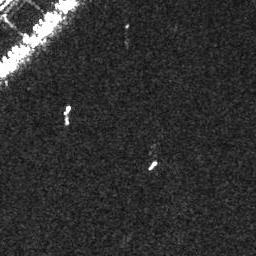ship: (147, 160, 158, 171), (63, 105, 73, 116)
